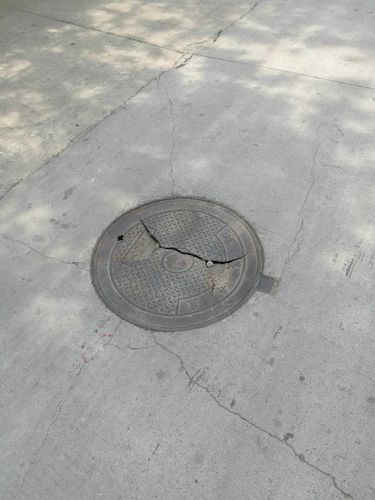broke: (87, 188, 279, 338)
